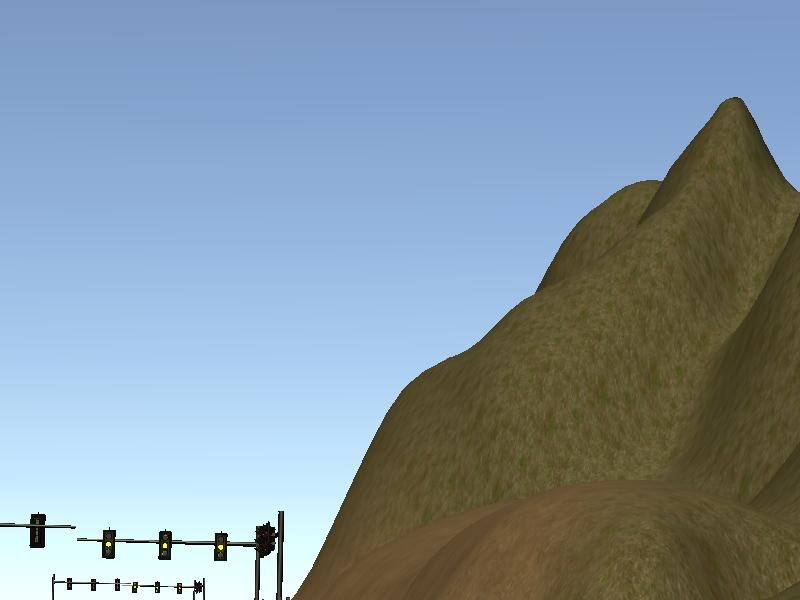yellow: (215, 531, 230, 564), (159, 530, 174, 560), (102, 529, 116, 559)
